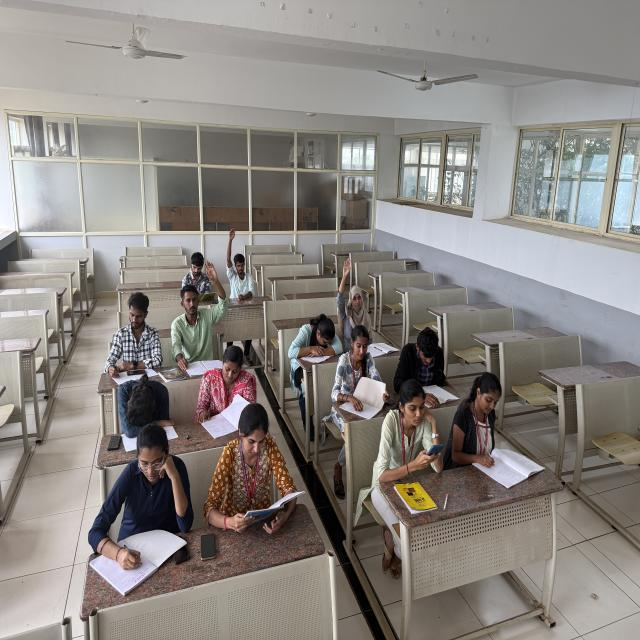Hand Rising: (167, 260, 230, 368), (333, 255, 374, 332), (222, 224, 260, 307)
Reading: (206, 401, 309, 544), (329, 322, 391, 421), (199, 339, 258, 439), (394, 323, 460, 412), (180, 249, 220, 304)
Sleeping: (109, 373, 177, 444), (284, 308, 348, 375)
Using Phone: (374, 378, 450, 503)
Writing: (92, 417, 197, 586), (449, 367, 528, 486), (103, 287, 161, 380)
